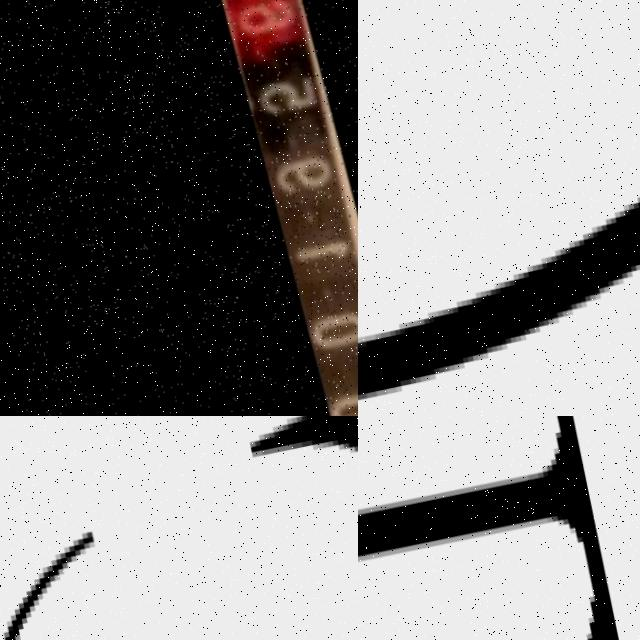0: (309, 302, 358, 358), (325, 384, 358, 416)
1: (290, 228, 358, 276)
5: (254, 71, 323, 123)
6: (231, 0, 299, 42)
7: (358, 93, 640, 416)
9: (270, 148, 339, 202)
T: (358, 416, 640, 640)
